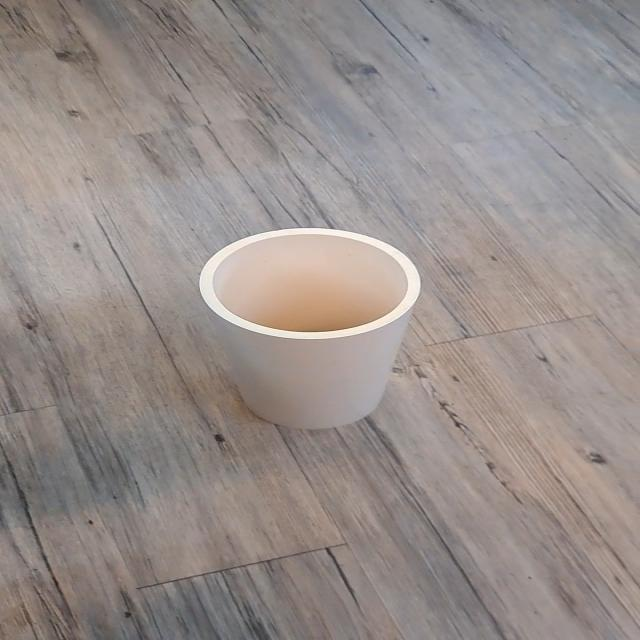CORAL: (166, 209, 433, 442)
